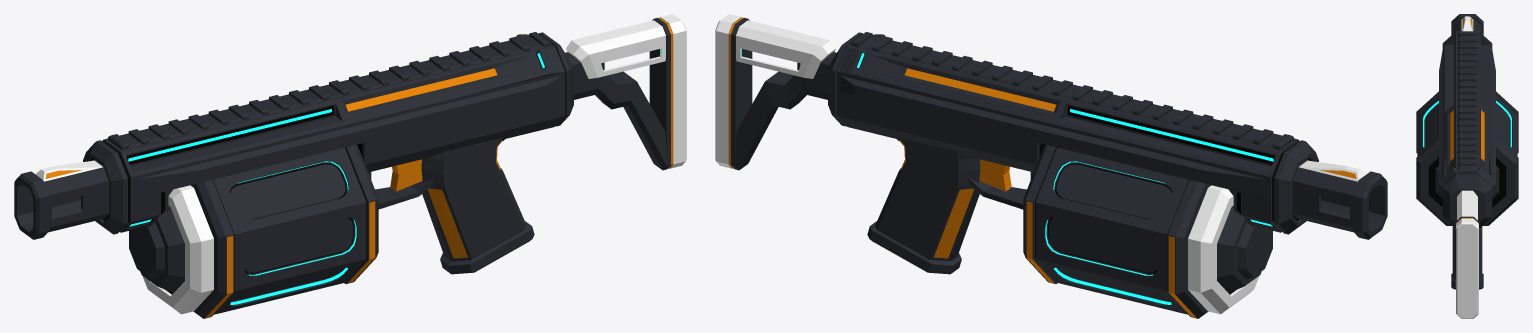
The model's file is SM_Grenade_Launcher.fbx.
The picture shows the model from 3 angles, left to right: view 1: azimuth 30°, elevation 25°; view 2: azimuth 150°, elevation 25°; view 3: azimuth 270°, elevation 25°; orthographic projection. The views are drawn at different scales.
Visible parts, largest first — view 1: SM_Grenade_Launcher, SM_Grenade_Magazine; view 2: SM_Grenade_Launcher, SM_Grenade_Magazine; view 3: SM_Grenade_Launcher, SM_Grenade_Magazine.
Part boxes in pixels (x1,y1,x2,y2): SM_Grenade_Launcher: (14, 14, 686, 274); SM_Grenade_Magazine: (129, 144, 378, 318); SM_Grenade_Launcher: (715, 14, 1387, 274); SM_Grenade_Magazine: (1023, 144, 1272, 318); SM_Grenade_Launcher: (1439, 14, 1495, 318); SM_Grenade_Magazine: (1416, 91, 1518, 225).
Bounding box in the file's own units: 90.18 × 28.12 × 18.41.
